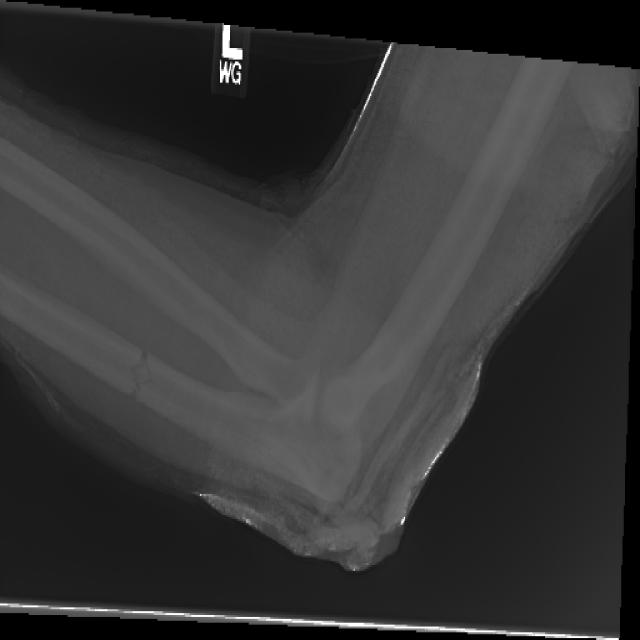elbow positive: (116, 310, 194, 435)
